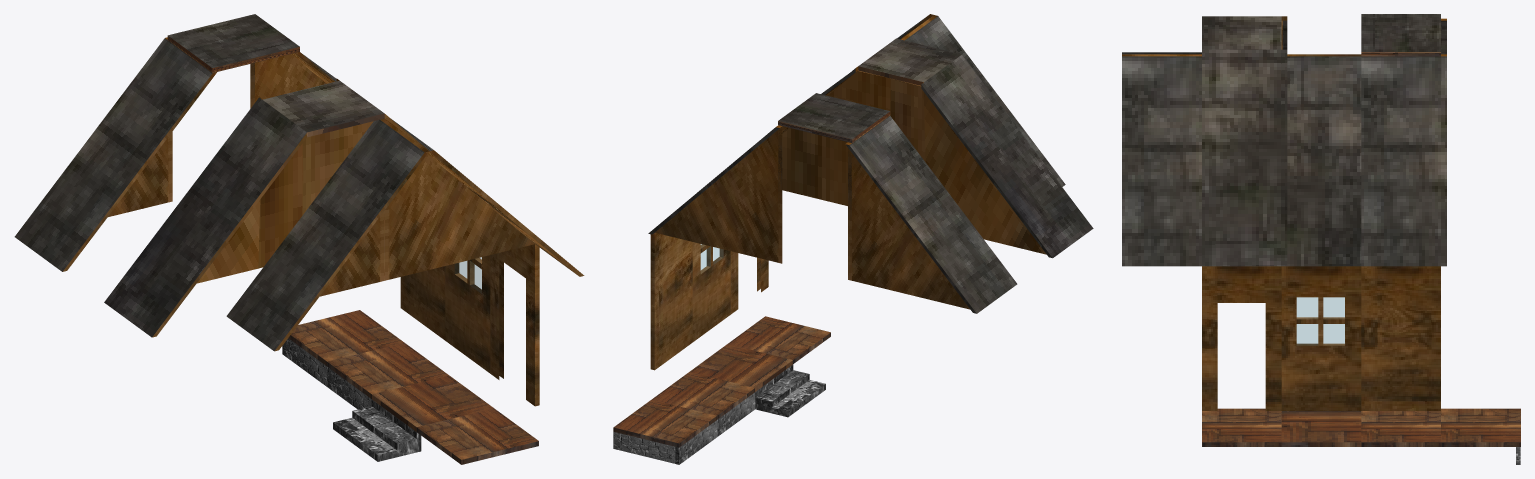
Rendered from ModularHouse1.8.glb.
3 renders of one model, left to right at view 1: azimuth 30°, elevation 25°; view 2: azimuth 150°, elevation 25°; view 3: azimuth 270°, elevation 25°, orthographic. The views are drawn at different scales.
Visible parts, largest first — view 1: Roof.001, RoofCombo, Roof2, StairBase, Top, Base, Window, CornerBase, Door, Floor.002, Roof, Wall; view 2: RoofCombo, Roof2, Roof, Wall, StairBase, CornerBase, Base, Top, Window, Floor.002, Roof.001, Door; view 3: RoofCombo, Roof, Roof.001, RoofExtender, Window, Wall, Door, Top, CornerBase, Floor.002, StairBase, Base.
Boxes of the visible parts, box(x1,y1,x2,y2) form: Roof.001: box(226, 117, 584, 351); RoofCombo: box(104, 78, 428, 337); Roof2: box(14, 37, 216, 271); StairBase: box(333, 375, 493, 461); Top: box(167, 14, 299, 72); Base: box(327, 342, 448, 409); Window: box(445, 255, 490, 373); CornerBase: box(282, 310, 404, 386); Door: box(490, 244, 539, 406); Floor.002: box(416, 408, 538, 464); Roof: box(250, 52, 334, 108); Wall: box(400, 266, 445, 340); RoofCombo: box(782, 38, 1093, 258); Roof2: box(845, 116, 1017, 313); Roof: box(648, 125, 785, 263); Wall: box(650, 233, 692, 370); StairBase: box(689, 344, 825, 417); CornerBase: box(613, 399, 717, 464); Base: box(652, 372, 755, 436); Top: box(778, 93, 890, 143); Window: box(692, 242, 730, 341); Floor.002: box(728, 316, 830, 363); Roof.001: box(897, 14, 1065, 186); Door: box(730, 251, 768, 314); RoofCombo: box(1202, 16, 1287, 266); Roof: box(1361, 54, 1446, 266); Roof.001: box(1122, 52, 1201, 266); RoofExtender: box(1287, 54, 1361, 266); Window: box(1281, 266, 1361, 410); Wall: box(1361, 266, 1440, 410); Door: box(1202, 266, 1281, 410); Top: box(1361, 14, 1440, 56); CornerBase: box(1441, 408, 1520, 464); Floor.002: box(1202, 408, 1281, 446); StairBase: box(1281, 411, 1361, 446); Base: box(1361, 411, 1440, 446).
Bounding box in the file's own units: 10.01 × 9.63 × 10.
Materials: 5 (4 with a texture image).
